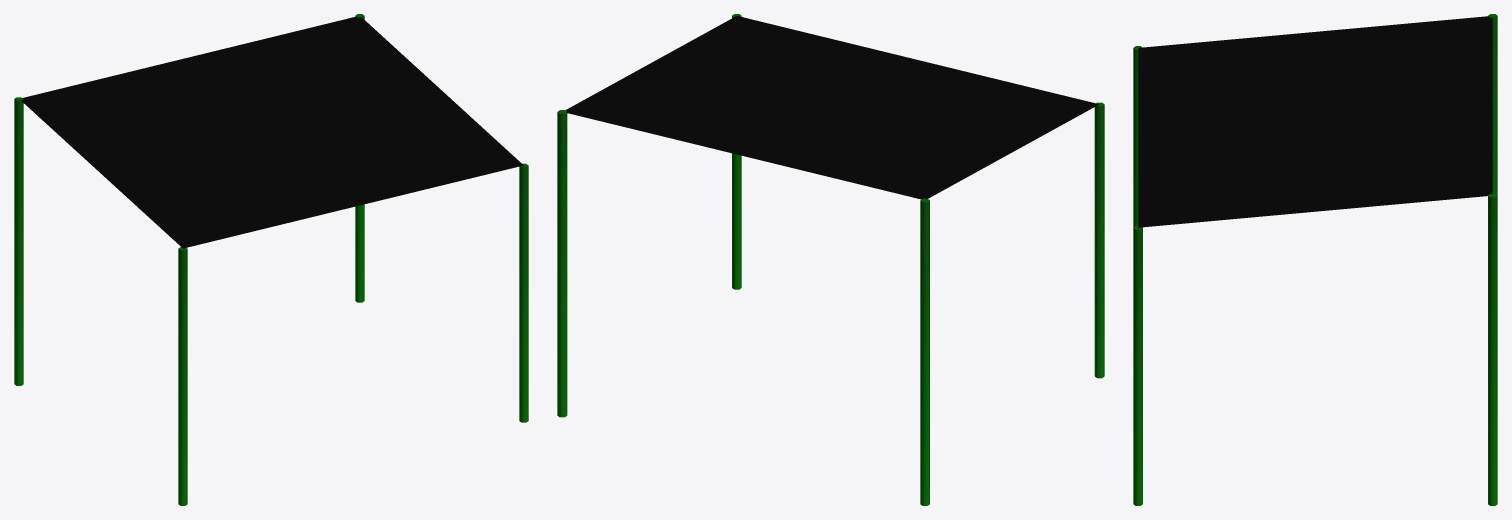
File: woven_awning.glb
The picture shows the model from 3 angles, left to right: view 1: azimuth 30°, elevation 25°; view 2: azimuth 150°, elevation 25°; view 3: azimuth 270°, elevation 25°; orthographic projection. The views are drawn at different scales.
Visible parts, largest first — view 1: woven_awning; view 2: woven_awning; view 3: woven_awning.
Part boxes in pixels (x1,y1,x2,y2): woven_awning: [14, 14, 528, 505]; woven_awning: [557, 14, 1104, 505]; woven_awning: [1133, 14, 1497, 505].
Size of what is drawn, in the model's own units: 3.06 by 2.4 by 2.57.
